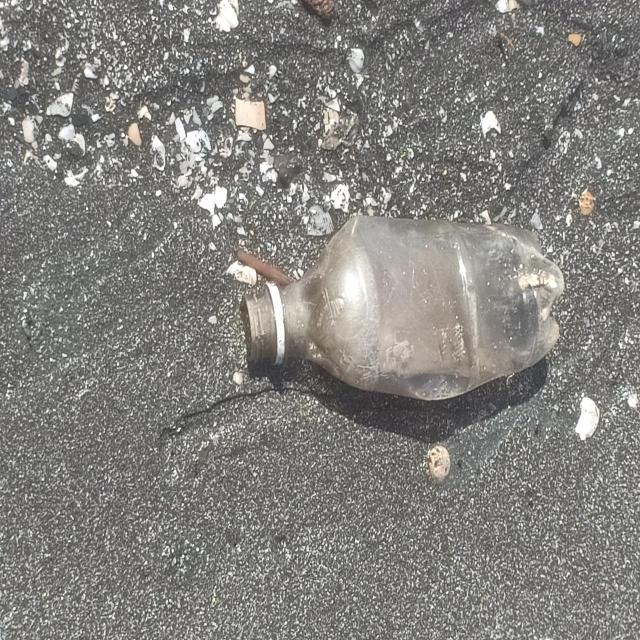plastic_waste: (243, 216, 567, 401)
